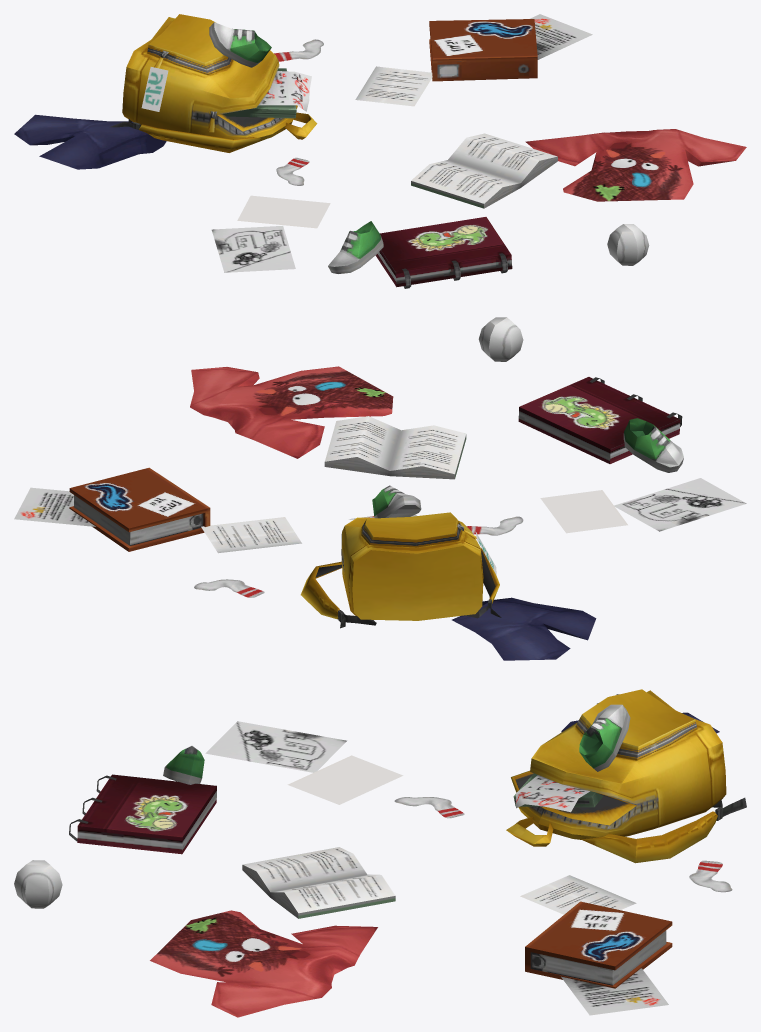
File: ParafernaliaInfantil_textura.fbx
3 renders of one model, top to bottom at view 1: azimuth 30°, elevation 25°; view 2: azimuth 150°, elevation 25°; view 3: azimuth 270°, elevation 25°, orthographic. The views are drawn at different scales.
Parts seen in each view (by area): view 1: s4studio_mesh_1; view 2: s4studio_mesh_1; view 3: s4studio_mesh_1.
Boxes of the visible parts, x1,y1,x2,y2 form: s4studio_mesh_1: (14,14,746,288); s4studio_mesh_1: (14,317,746,660); s4studio_mesh_1: (14,689,746,1017).
Bounding box in the file's own units: 157 × 27.02 × 159.
Materials: 1 (1 with a texture image).
